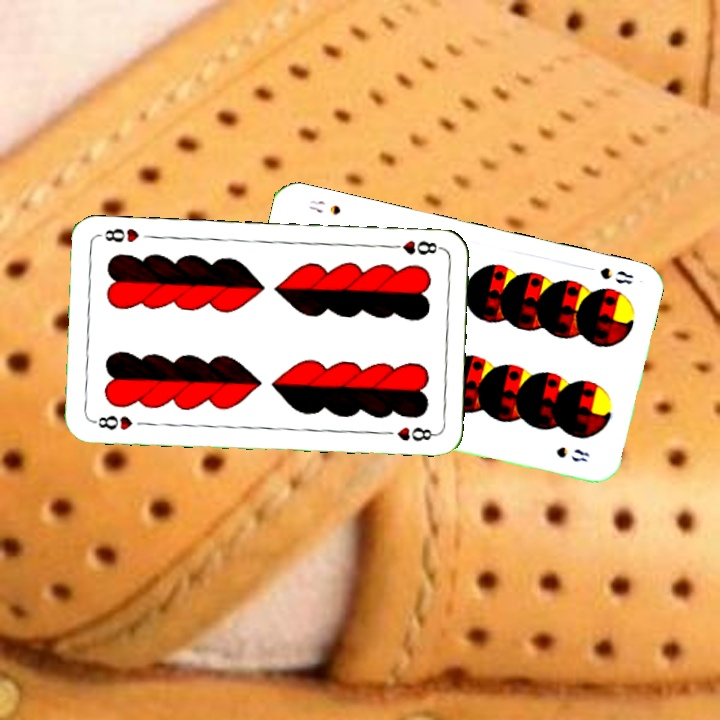H8: (385, 236, 444, 257), (88, 411, 135, 433)
S8: (596, 263, 636, 287)
